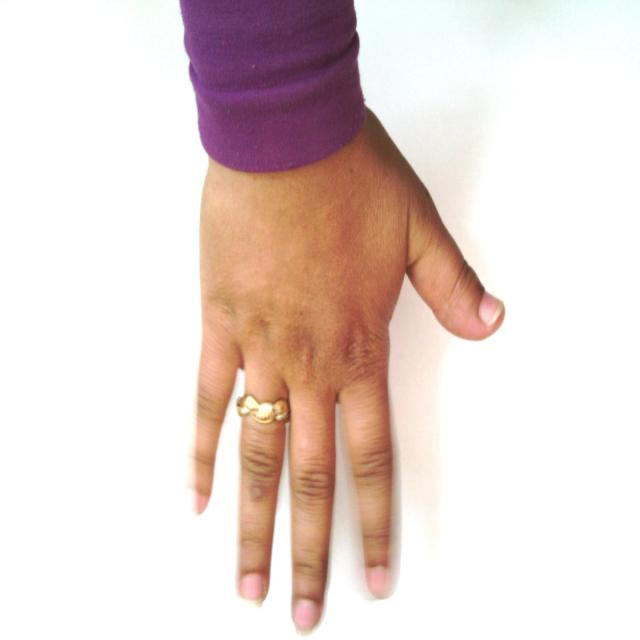others: (103, 1, 562, 630)
